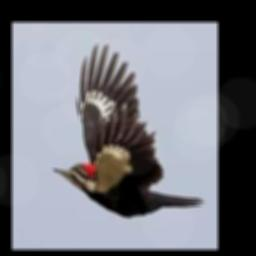Woodpecker: (52, 44, 204, 216)
